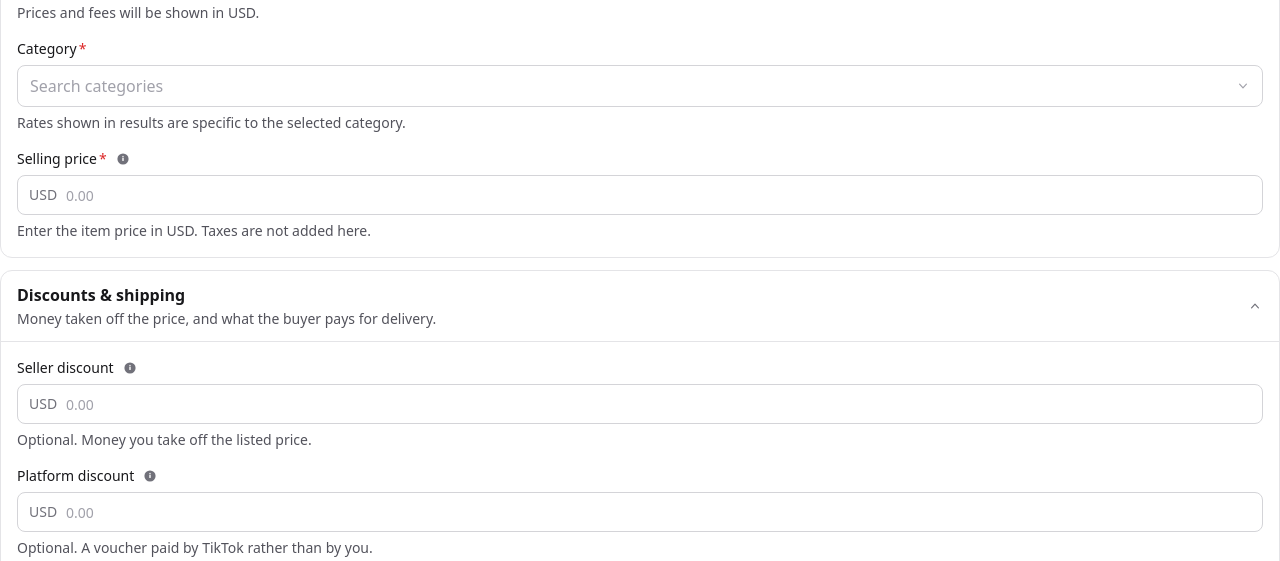
a category is required before calculating › enables Calculate Profit once a category is chosen
The image size is (1280, 561).
Focus the dropdown labelled "Category*" at {"x": 640, "y": 86}, box x1=17 y1=65 x2=1263 y2=107
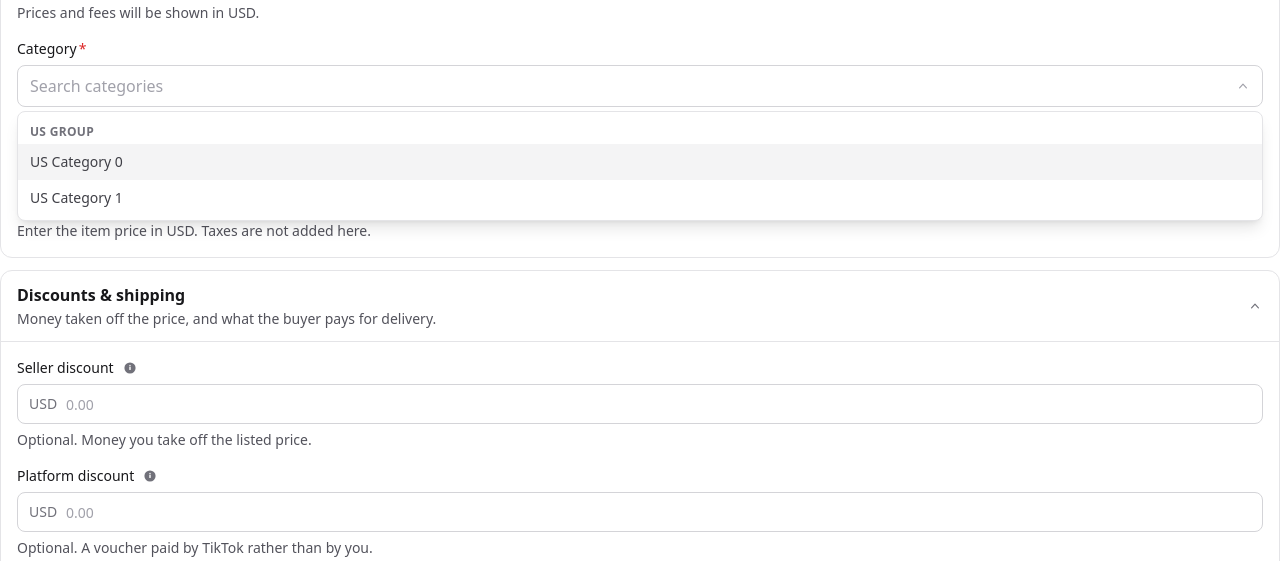
Press the mouse on the option "US Category 0" at {"x": 76, "y": 162}, box x1=18 y1=144 x2=1262 y2=180
(page scrolled)
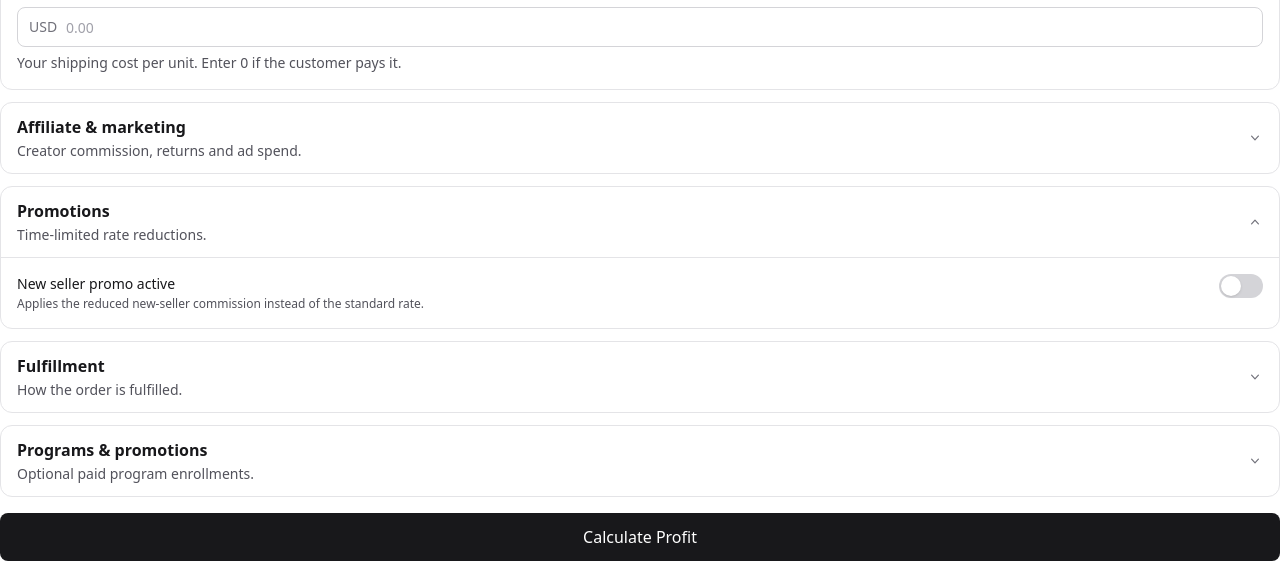
expect the button "Calculate Profit" is enabled: met, box x1=0 y1=513 x2=1279 y2=560
